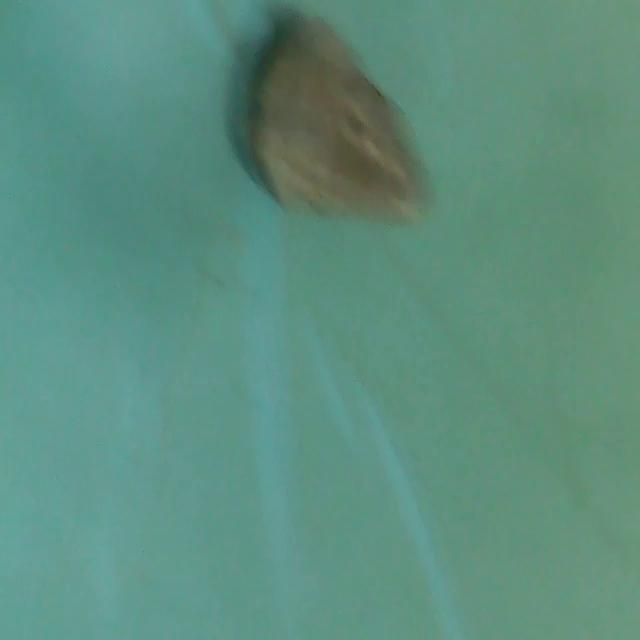rock: (245, 10, 435, 249)
